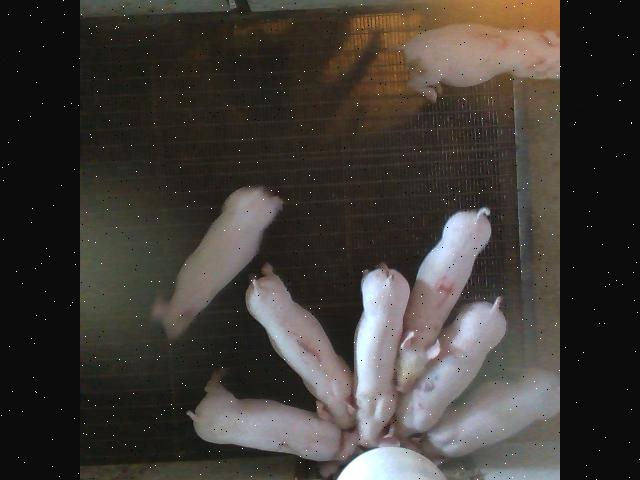pig-1: (246, 262, 355, 428)
pig-3: (401, 22, 558, 100)
pig-4: (395, 206, 491, 391)
